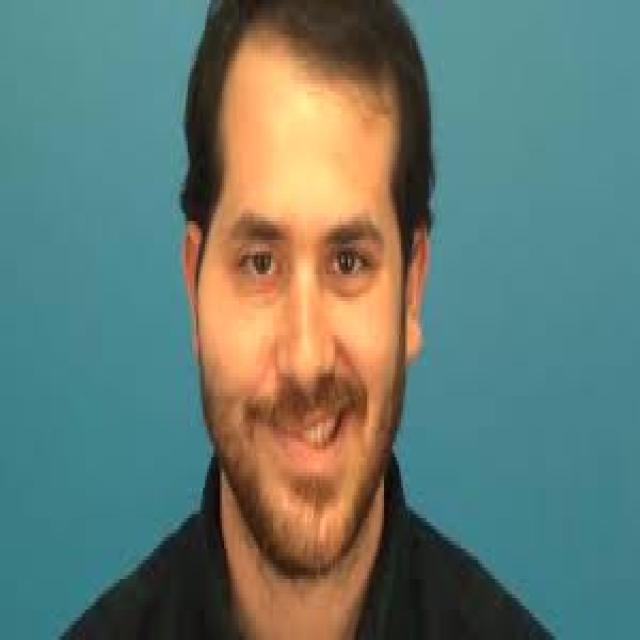stroke_face: (203, 4, 405, 575)
